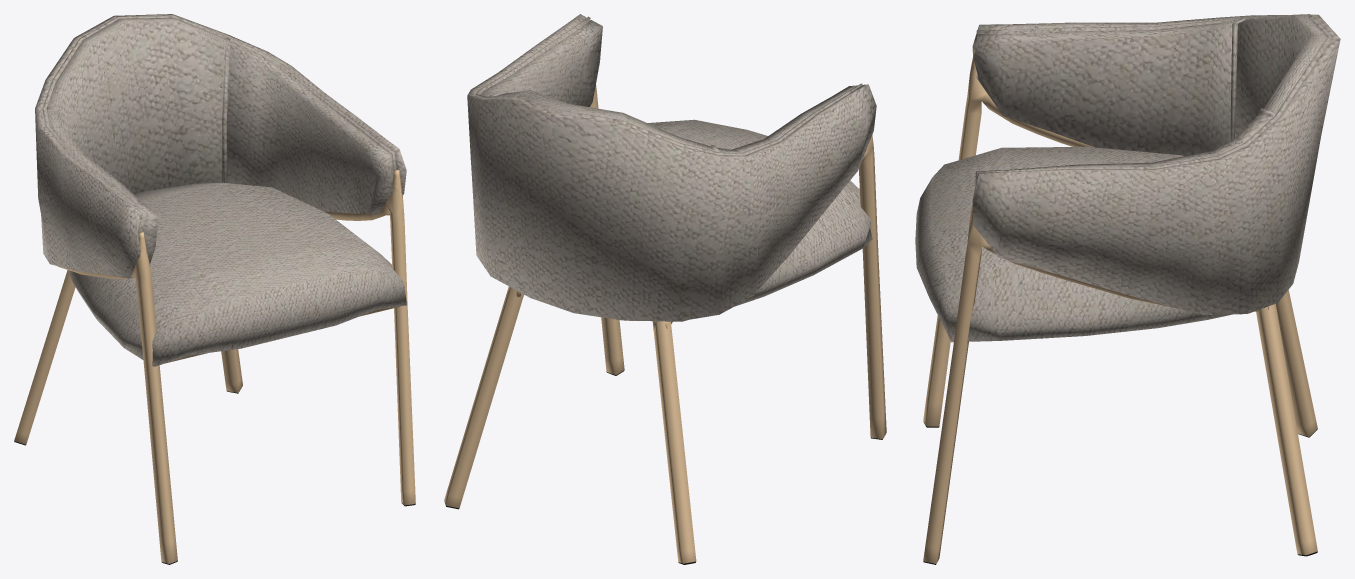
File: chairCelosia.glb
3 renders of one model, left to right at view 1: azimuth 30°, elevation 25°; view 2: azimuth 150°, elevation 25°; view 3: azimuth 270°, elevation 25°, orthographic. The views are drawn at different scales.
Parts seen in each view (by area): view 1: Chair; view 2: Chair; view 3: Chair.
Boxes of the visible parts, <box> form: Chair: <box>14,14,415,564</box>; Chair: <box>444,14,886,564</box>; Chair: <box>915,14,1340,564</box>.
Bounding box in the file's own units: 0.6025 × 0.8097 × 0.6789.
3 materials, 1 textured.
